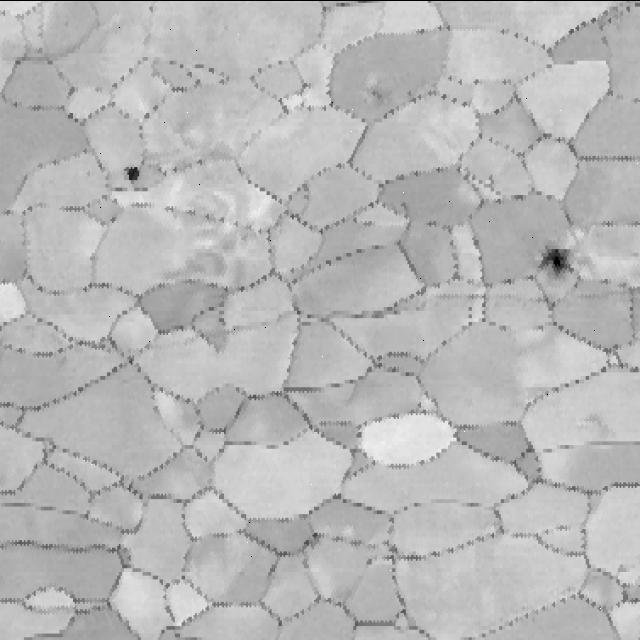good_void: (537, 223, 574, 292), (117, 149, 155, 204), (359, 82, 392, 110), (422, 216, 440, 227), (361, 215, 373, 229), (615, 562, 628, 572)
